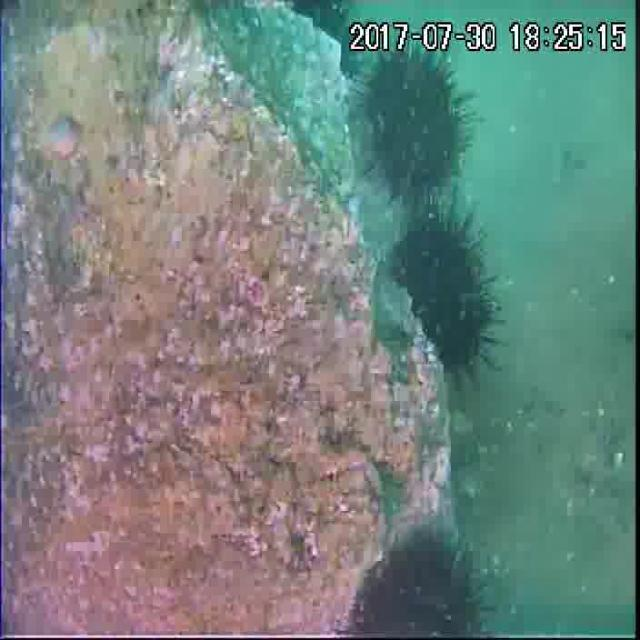echinus: (383, 218, 500, 381), (352, 520, 500, 640), (363, 50, 479, 202), (289, 1, 367, 85)
